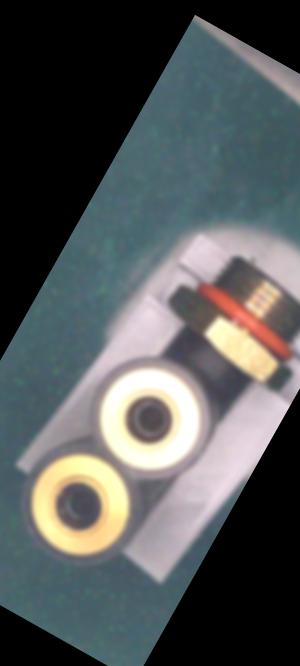white mark: (206, 346, 220, 360)
